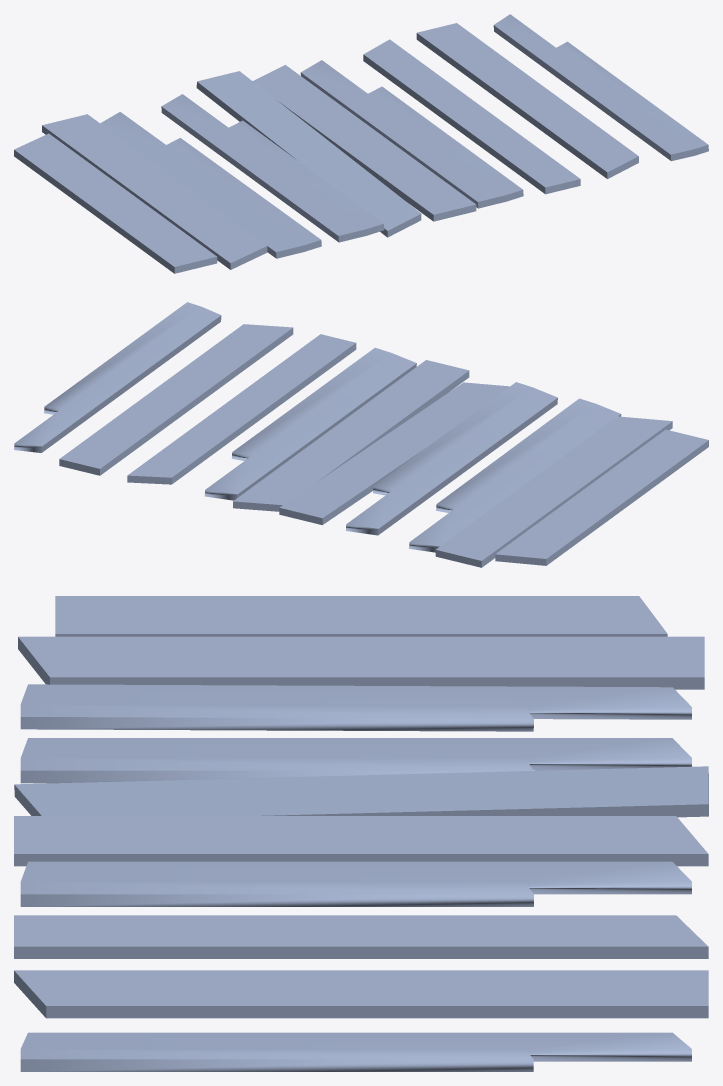
The model's file is Beam_Structure_11A_Lod0.fbx.
3 views of the same model, one above another, from view 1: azimuth 30°, elevation 25°; view 2: azimuth 150°, elevation 25°; view 3: azimuth 270°, elevation 25° (orthographic). The views are drawn at different scales.
Visible parts, largest first — view 1: Beam_Structure_11A_Lod0; view 2: Beam_Structure_11A_Lod0; view 3: Beam_Structure_11A_Lod0.
Part boxes in pixels (<box>): Beam_Structure_11A_Lod0: <box>14,14,708,273</box>; Beam_Structure_11A_Lod0: <box>14,302,708,567</box>; Beam_Structure_11A_Lod0: <box>14,596,708,1071</box>.
Size of the model in its own units: 251 by 7.61 by 158.
